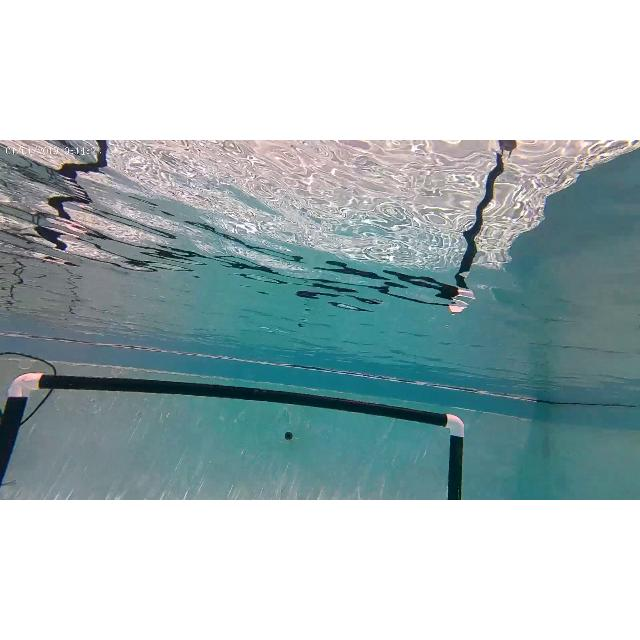prequal gate: (0, 370, 464, 499)
prequal gate leg l: (1, 367, 51, 499)
prequal gate leg r: (434, 404, 474, 498)
